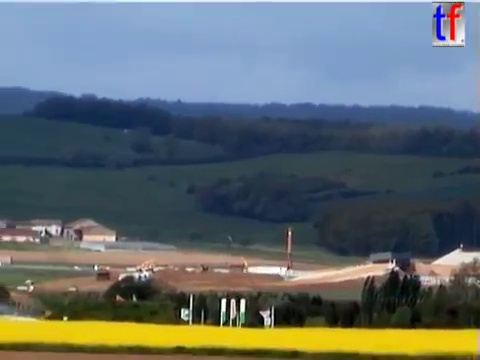crane: (279, 225, 299, 279)
truck: (94, 264, 113, 282)
